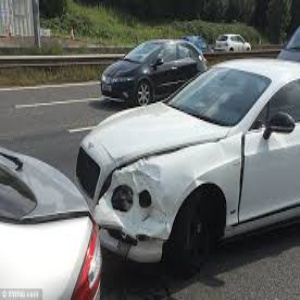bumper: (105, 166, 177, 266)
